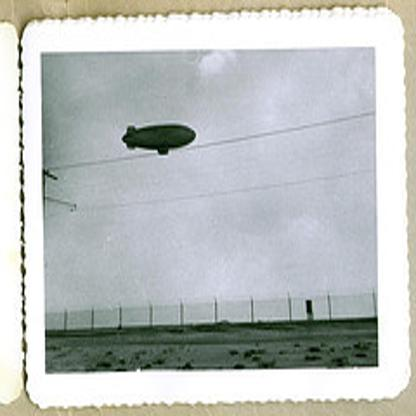Airship: (119, 123, 201, 157)
